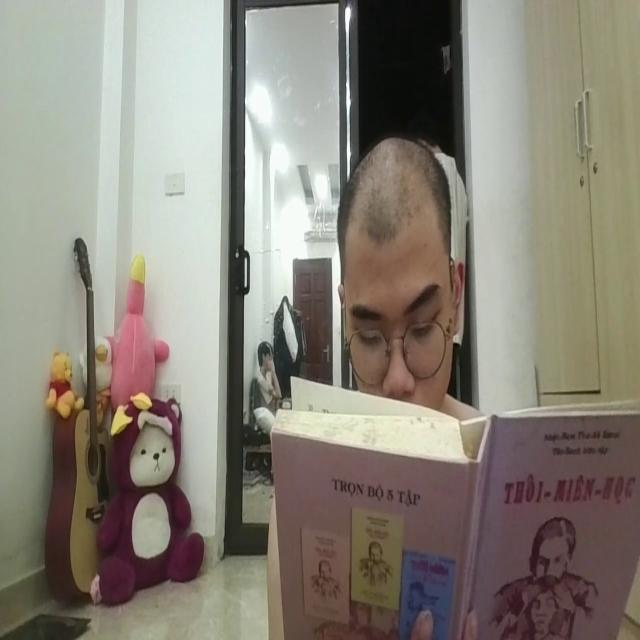book: (269, 366, 640, 640)
extra_person: (414, 123, 469, 359), (249, 327, 289, 417)
student: (330, 134, 464, 406)
